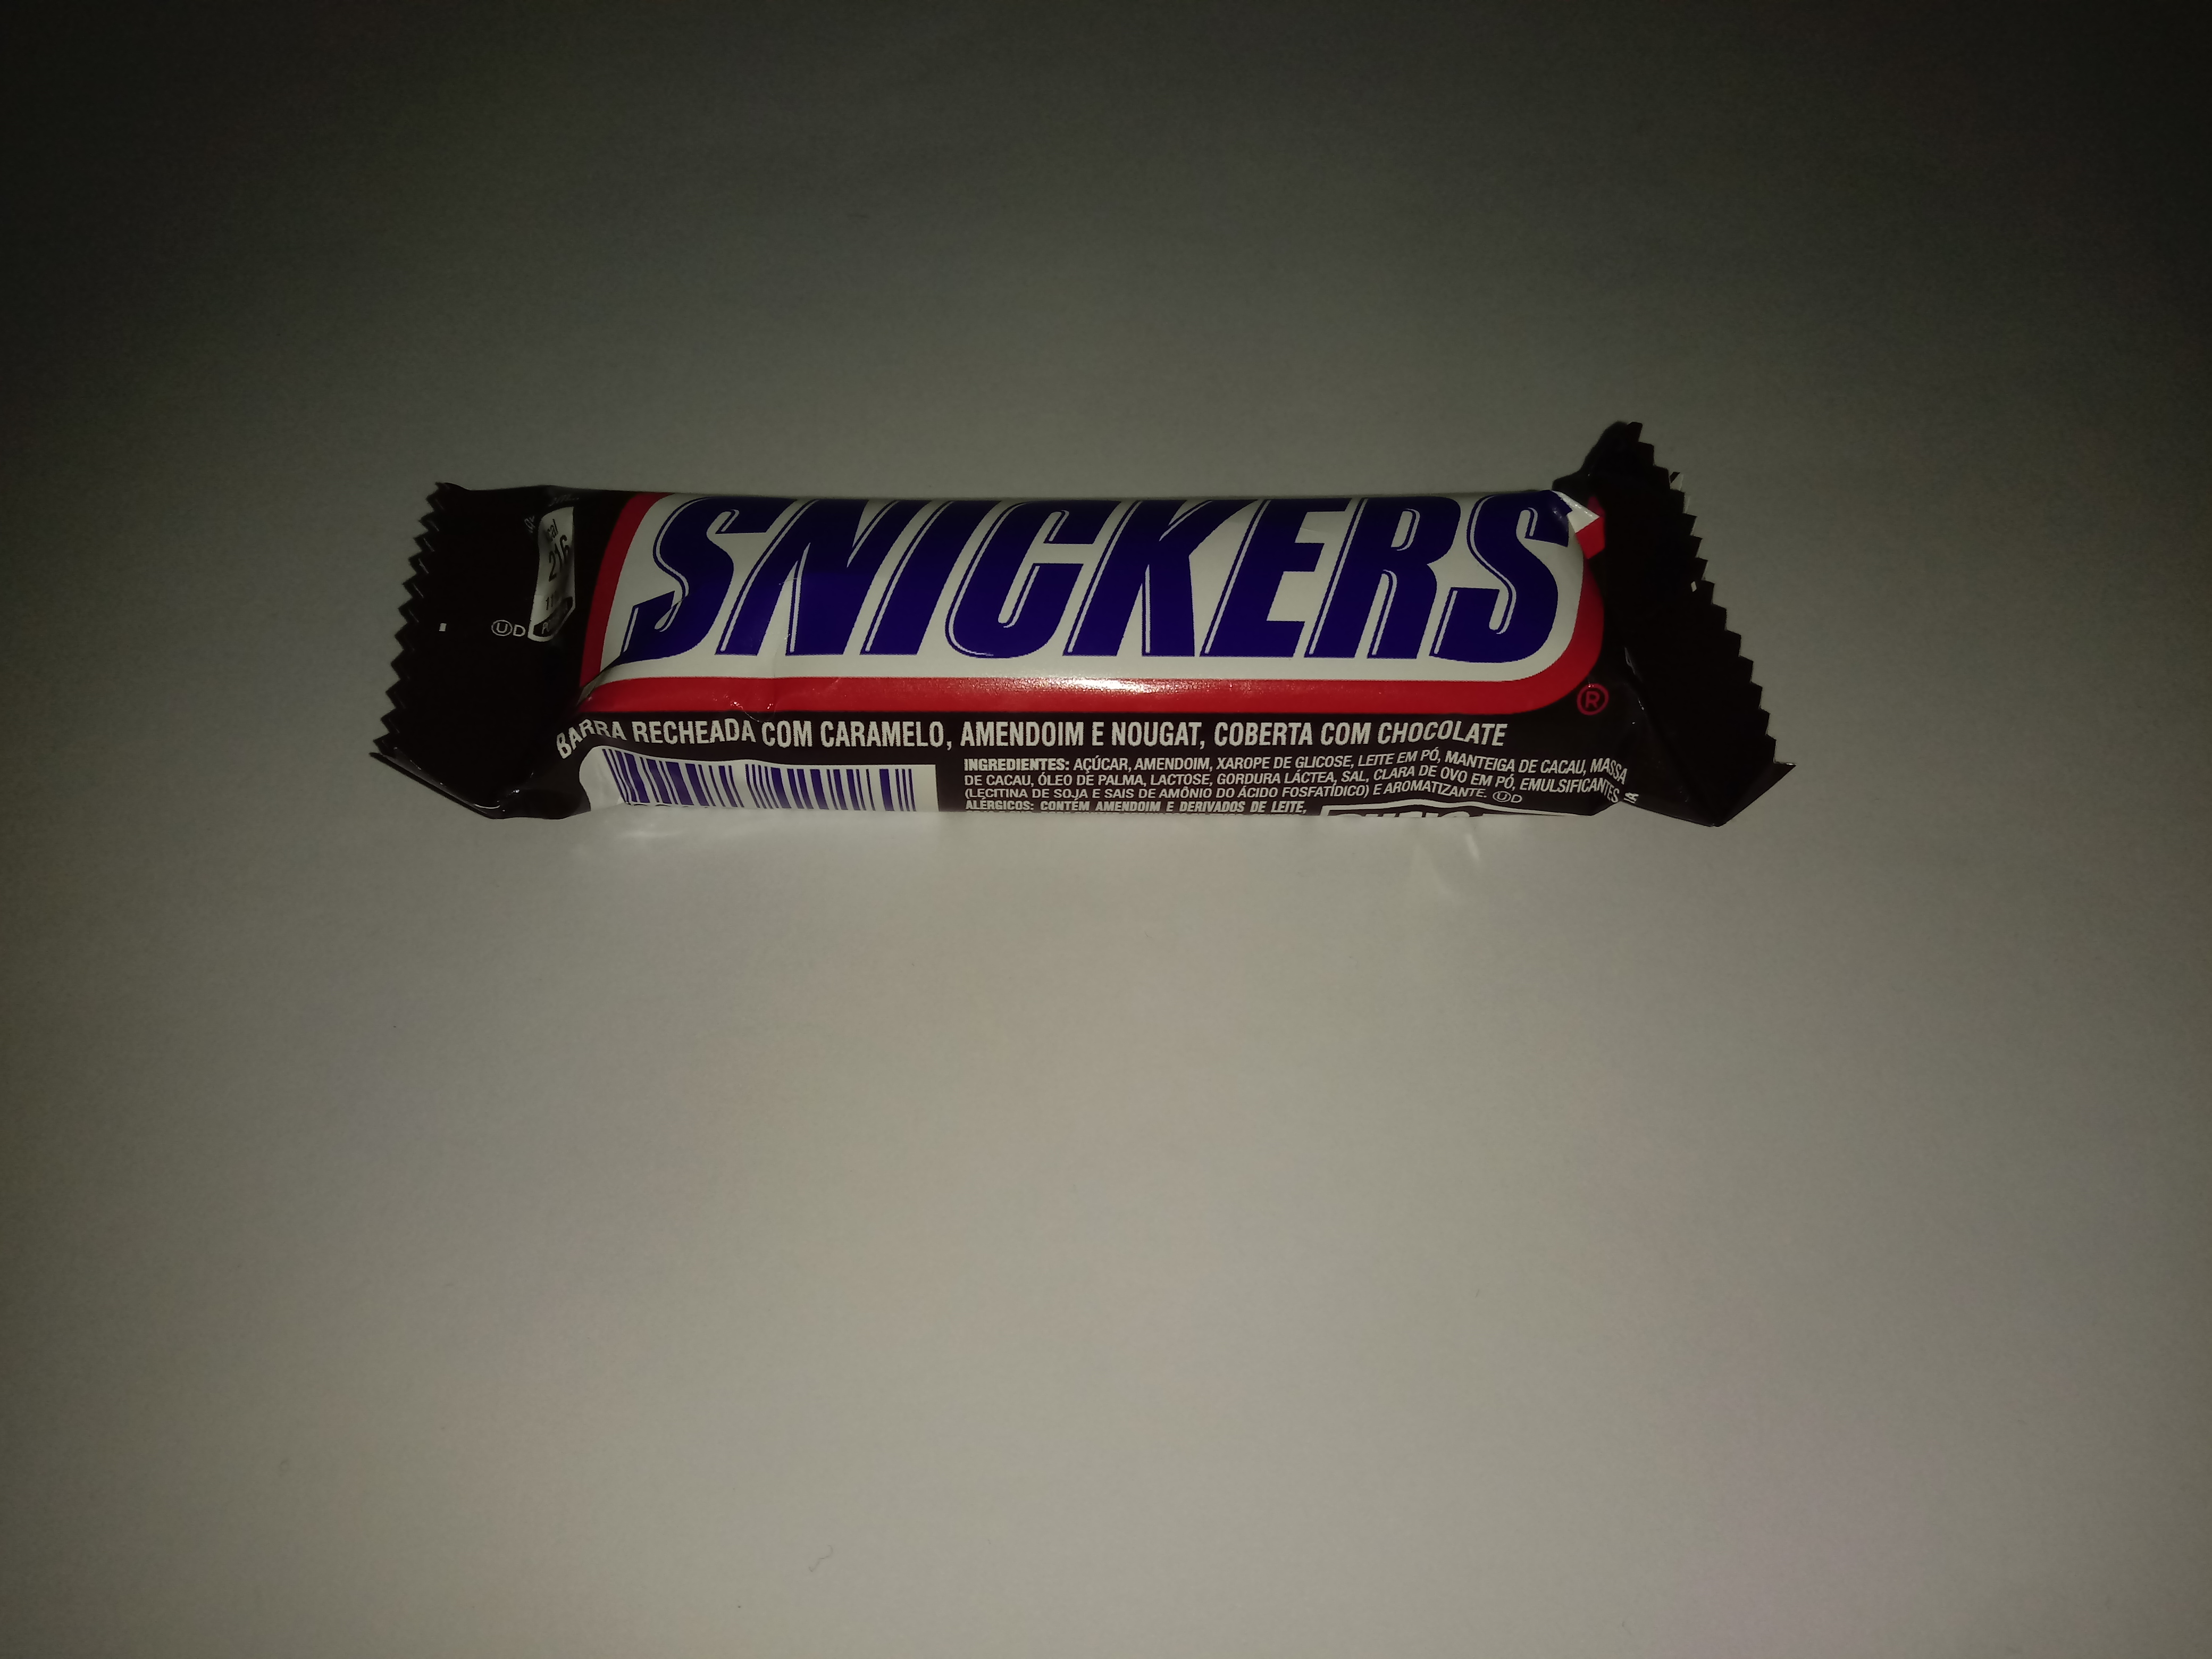snickers: (361, 416, 1804, 828)
